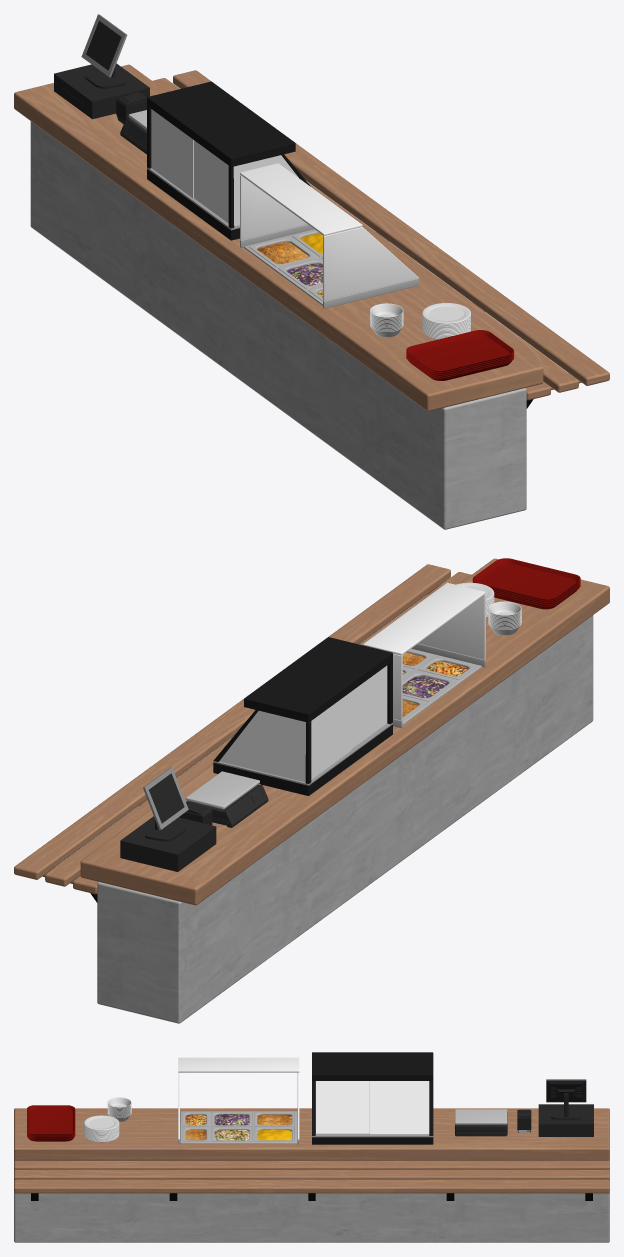
File: Counter_Wrapper.glb
3 views of the same model, one above another, from view 1: azimuth 30°, elevation 25°; view 2: azimuth 150°, elevation 25°; view 3: azimuth 270°, elevation 25° (orthographic). The views are drawn at different scales.
Parts seen in each view (by area): view 1: Counter, Countertop Food Warmer, Food_Showcase, POS, Tray.004, Food, Plate.013; view 2: Counter, Countertop Food Warmer, Food_Showcase, POS, Tray.004, Food; view 3: Counter, Countertop Food Warmer, POS, Food_Showcase, Food, Tray.004, Plate.013.
Boxes of the visible parts, x1,y1,x2,y2 form: Counter: [14, 64, 609, 529]; Countertop Food Warmer: [147, 81, 310, 240]; Food_Showcase: [240, 163, 419, 308]; POS: [54, 14, 149, 154]; Tray.004: [406, 330, 513, 372]; Food: [257, 233, 322, 297]; Plate.013: [422, 303, 470, 324]; Counter: [14, 558, 609, 1023]; Countertop Food Warmer: [213, 637, 392, 795]; Food_Showcase: [363, 582, 485, 728]; POS: [120, 767, 268, 871]; Tray.004: [472, 558, 580, 600]; Food: [402, 652, 468, 716]; Counter: [14, 1108, 609, 1242]; Countertop Food Warmer: [312, 1052, 433, 1144]; POS: [455, 1079, 593, 1136]; Food_Showcase: [178, 1057, 299, 1144]; Food: [185, 1114, 291, 1140]; Tray.004: [27, 1105, 75, 1135]; Plate.013: [84, 1115, 119, 1130].
Bounding box in the file's own units: 1.1 × 1.27 × 4.3.
Materials: 10 (5 with a texture image).
